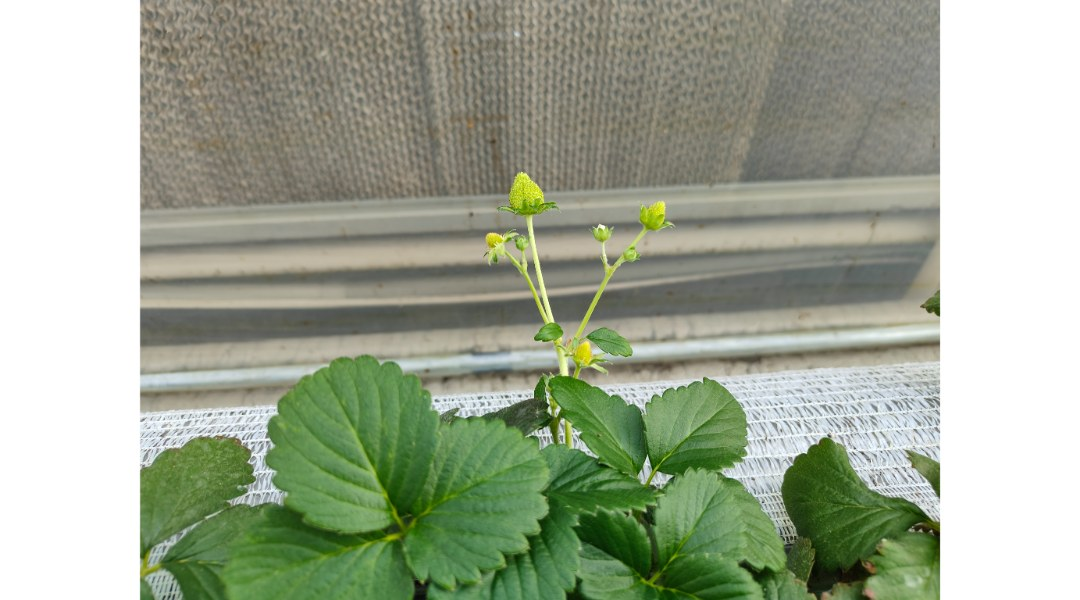berry: (493, 159, 562, 218), (637, 190, 678, 235), (474, 230, 508, 256), (573, 333, 595, 373), (623, 244, 650, 271), (589, 219, 605, 243), (514, 233, 534, 252)
strain: (520, 214, 554, 321), (568, 279, 608, 345), (527, 280, 547, 325)
